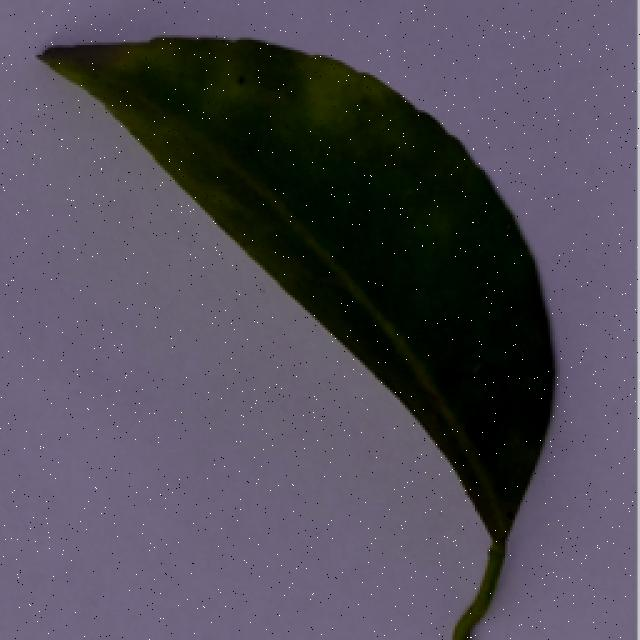greening: (32, 24, 569, 640)
